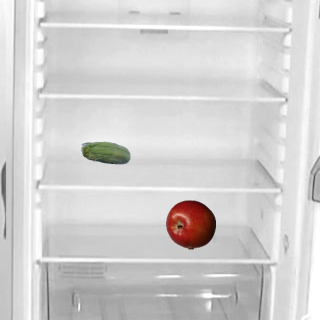Apple Braeburn: (165, 199, 215, 249)
Corn Husk: (80, 129, 130, 179)
